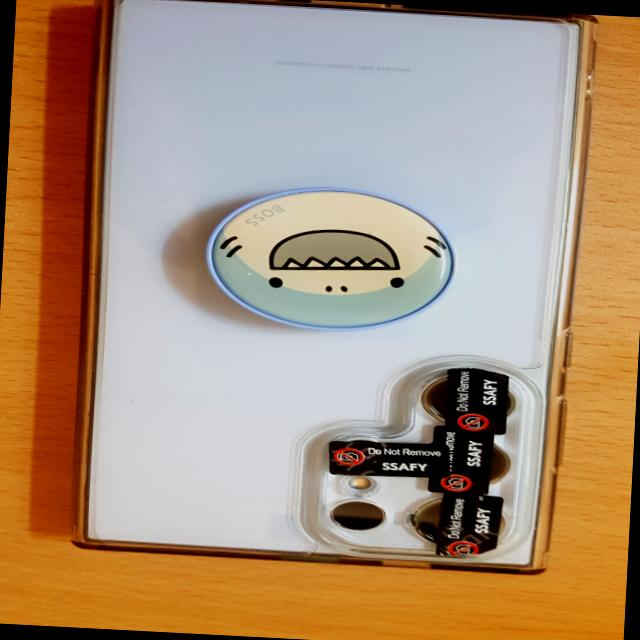phone: (56, 0, 591, 580)
removed_sticker: (322, 436, 406, 476), (438, 516, 497, 560)
sticker: (442, 361, 508, 434), (429, 424, 489, 494)
